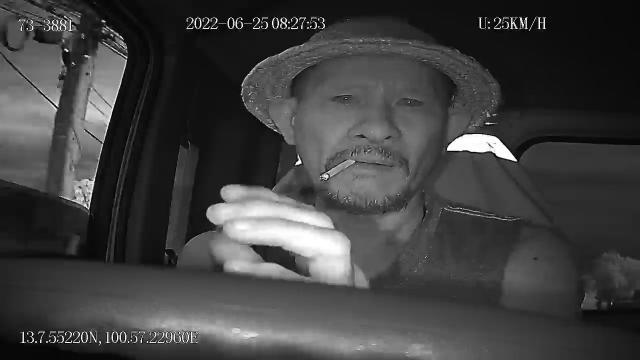SafeDriving: (388, 86, 432, 116), (322, 84, 364, 109)
Smoking: (319, 153, 357, 183)
